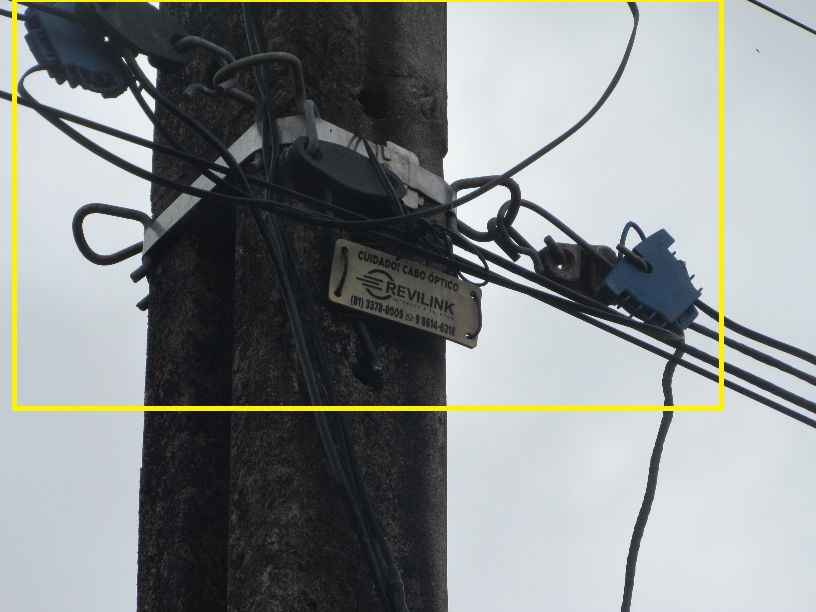drop: (497, 184, 705, 349), (275, 108, 409, 226)
